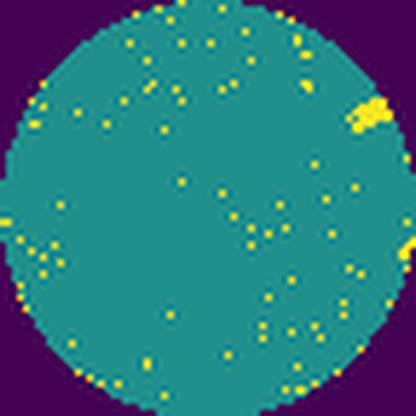Loc: (342, 97, 392, 135)
